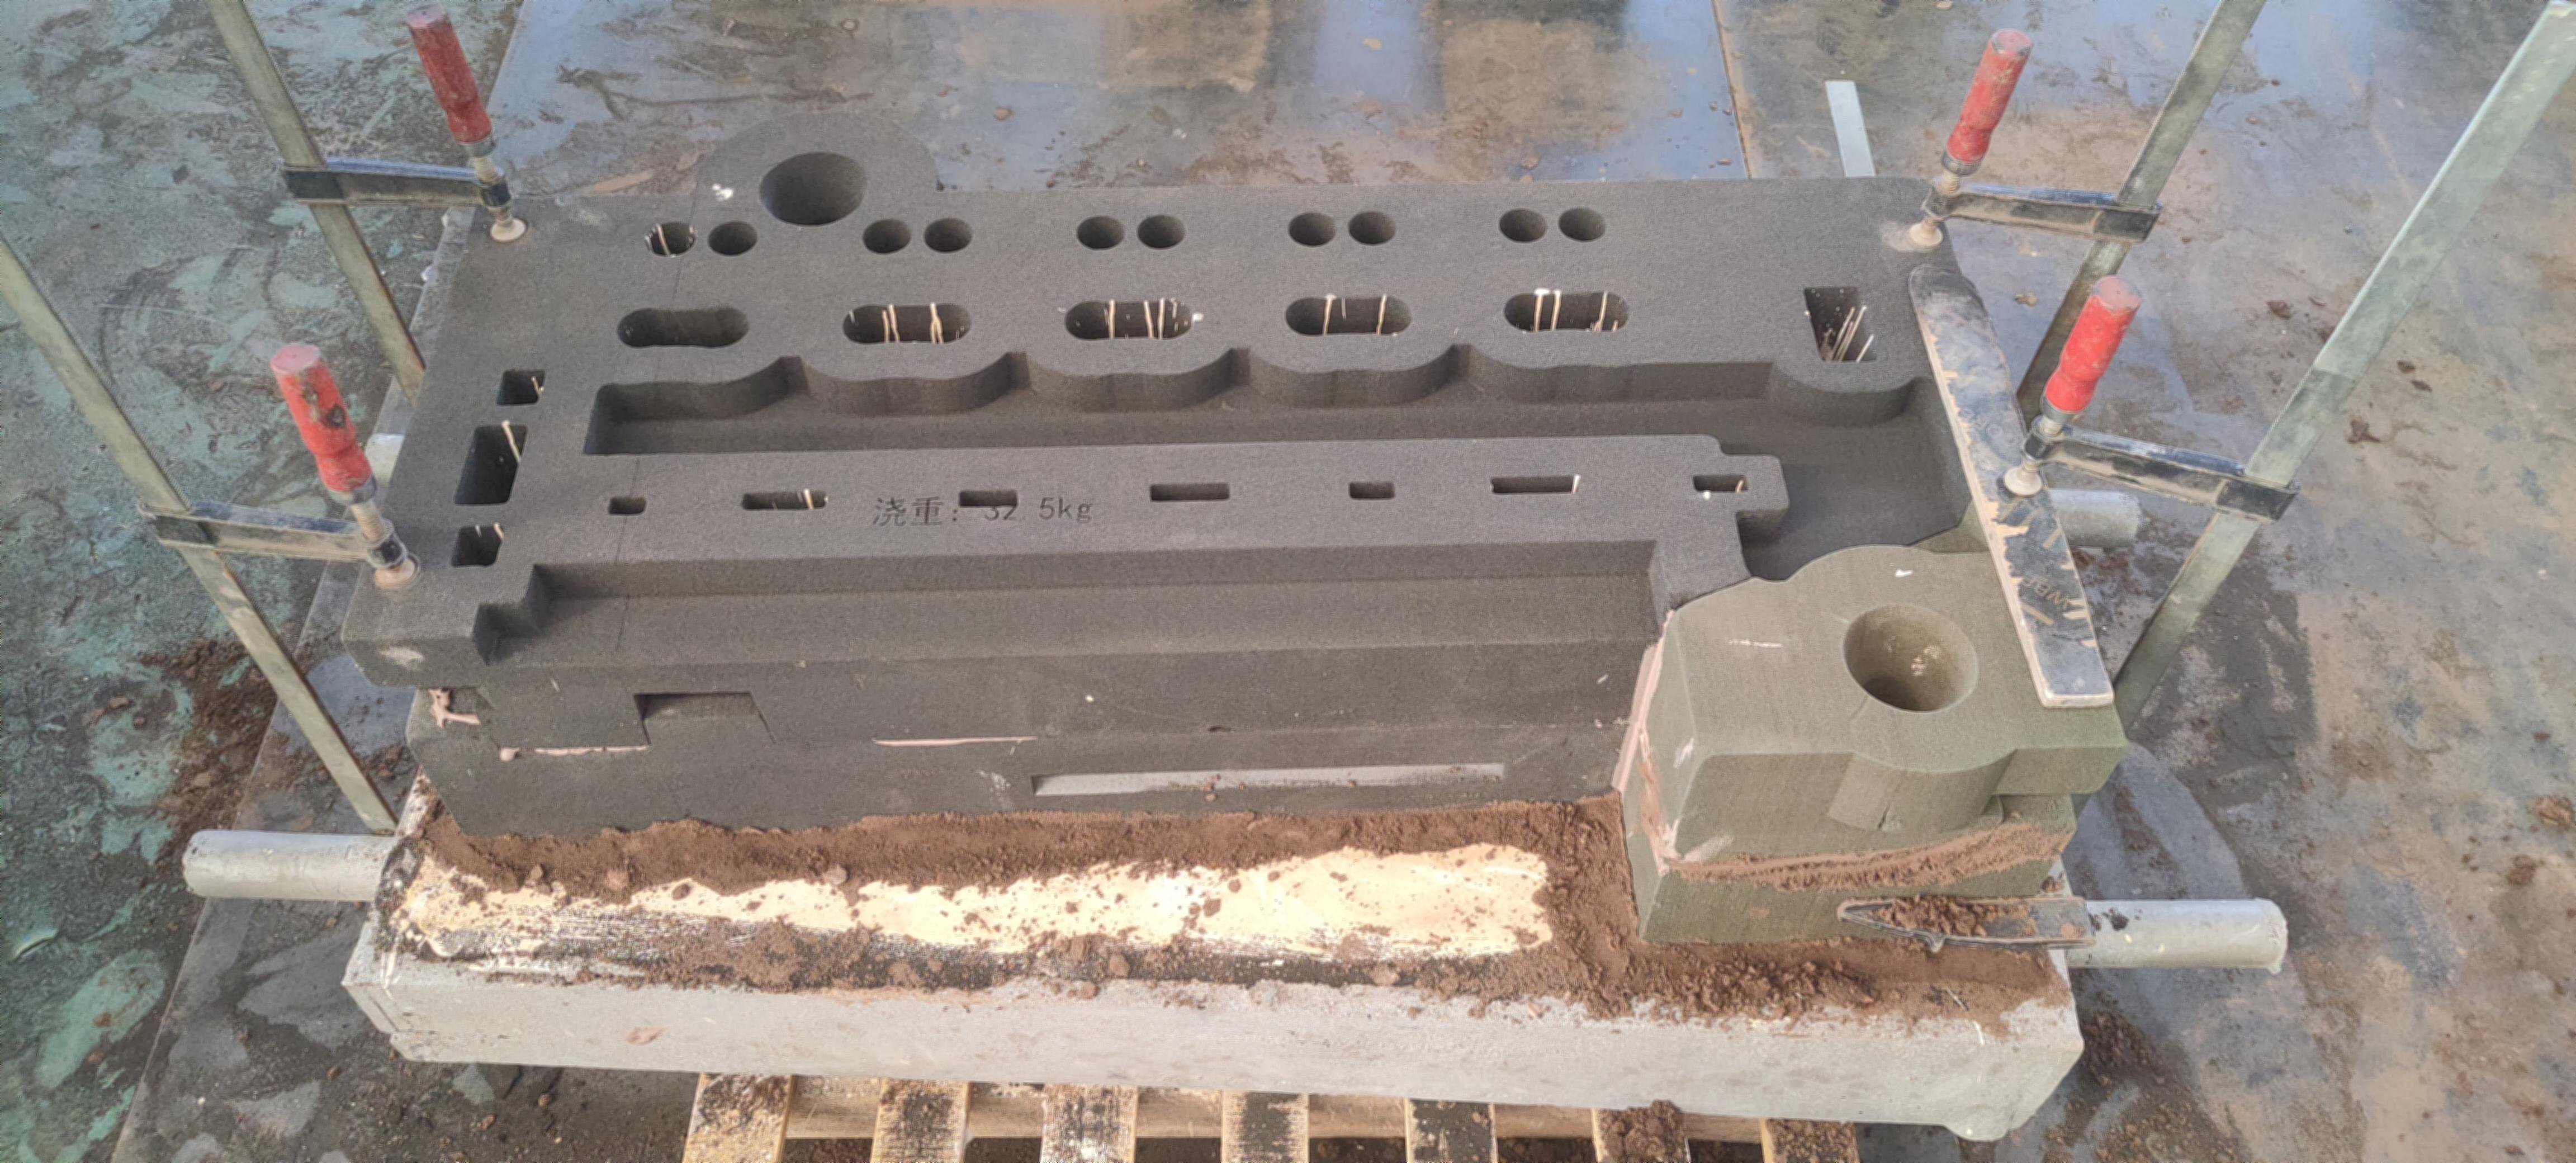pouring hole: (1843, 604, 1978, 715), (757, 151, 867, 227)
